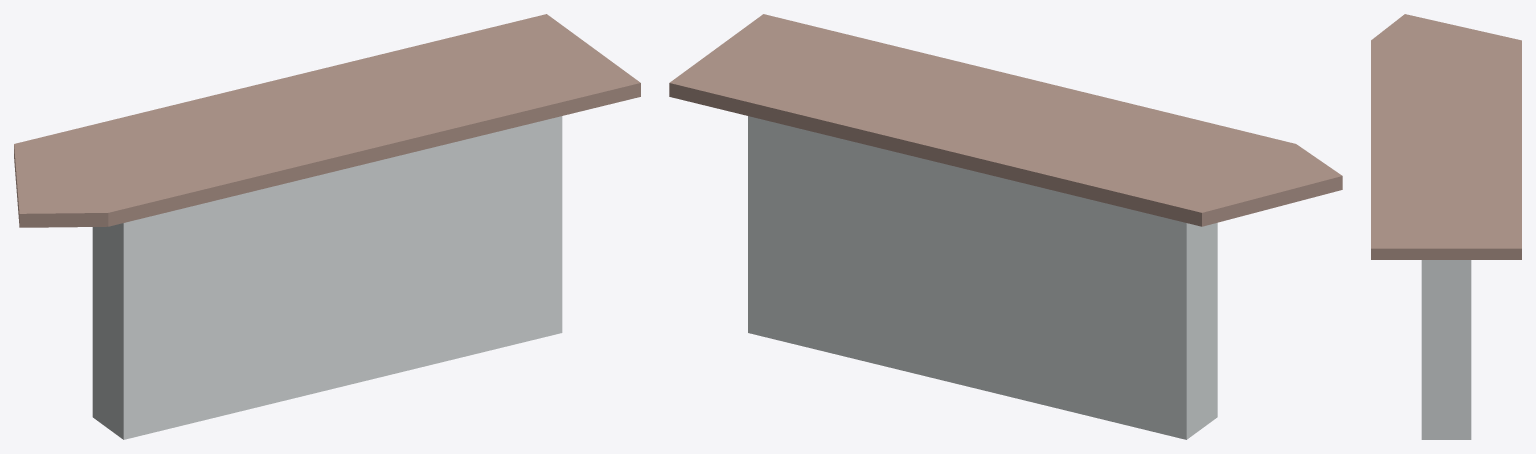
The model's file is Table angle - L.glb.
3 views of the same model, side by side, from view 1: azimuth 30°, elevation 25°; view 2: azimuth 150°, elevation 25°; view 3: azimuth 270°, elevation 25° (orthographic). The views are drawn at different scales.
Parts seen in each view (by area): view 1: group383138261, group497994667; view 2: group383138261, group497994667; view 3: group497994667, group383138261.
Part boxes in pixels (<box>): group383138261: <box>92,116,562,439</box>; group497994667: <box>14,14,640,227</box>; group383138261: <box>748,116,1217,439</box>; group497994667: <box>669,14,1342,226</box>; group497994667: <box>1371,14,1521,259</box>; group383138261: <box>1421,260,1471,439</box>.
Size of the model in its own units: 2.26 by 0.94 by 0.613.
